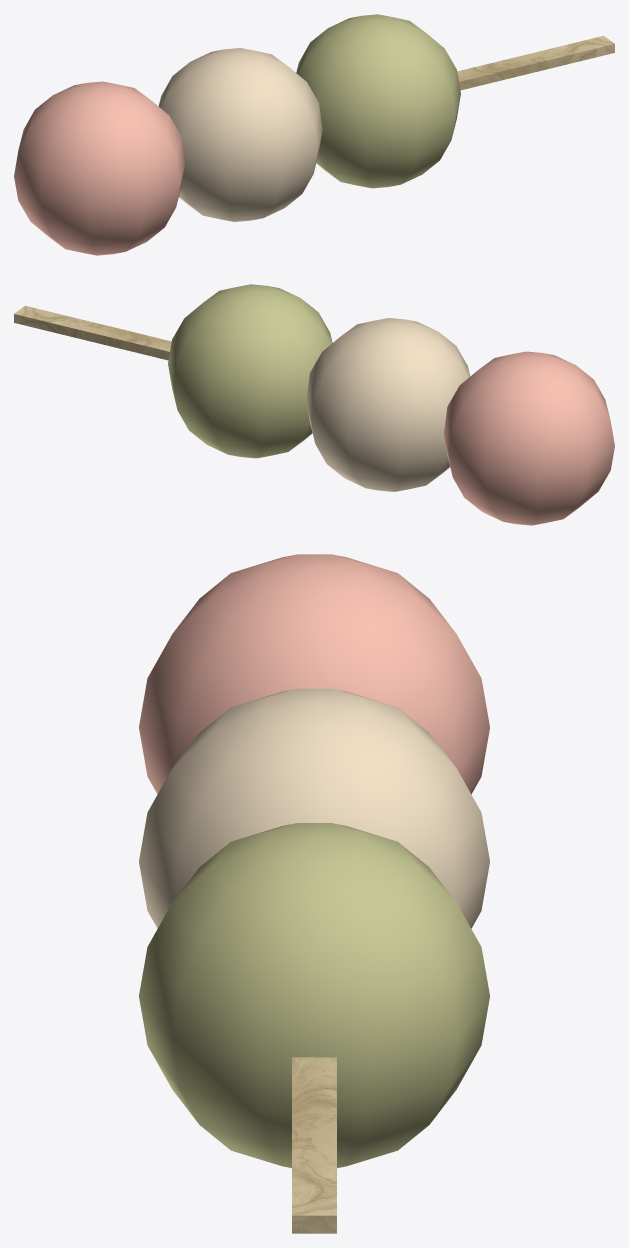
The model's file is dango_2.fbx.
3 renders of one model, top to bottom at view 1: azimuth 30°, elevation 25°; view 2: azimuth 150°, elevation 25°; view 3: azimuth 270°, elevation 25°, orthographic. The views are drawn at different scales.
Visible parts, largest first — view 1: Dango; view 2: Dango; view 3: Dango.
Boxes of the visible parts, box(x1,y1,x2,y2) form: Dango: box(14, 14, 614, 255); Dango: box(14, 284, 614, 525); Dango: box(139, 554, 489, 1233).
Bounding box in the file's own units: 765 × 200 × 200.
